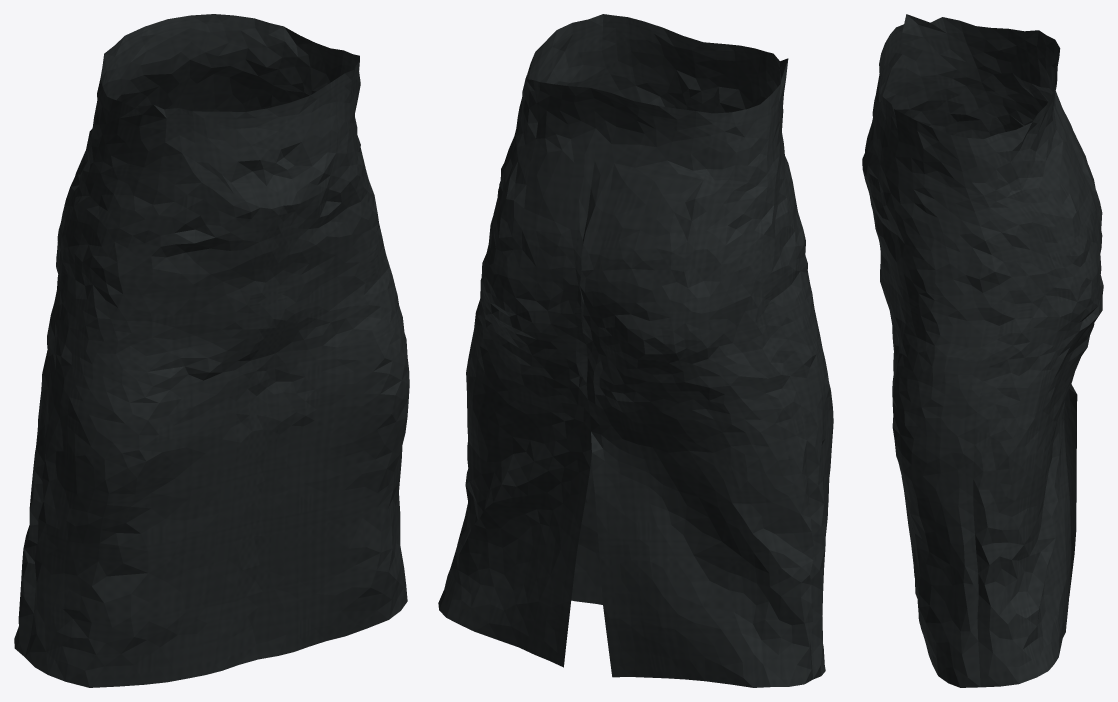
File: mhw_elvs_pencil_skirt.glb
3 views of the same model, side by side, from view 1: azimuth 30°, elevation 25°; view 2: azimuth 150°, elevation 25°; view 3: azimuth 270°, elevation 25° (orthographic). The views are drawn at different scales.
Visible parts, largest first — view 1: mhw_elvs_pencil_skirt; view 2: mhw_elvs_pencil_skirt; view 3: mhw_elvs_pencil_skirt.
Boxes of the visible parts, <box> form: mhw_elvs_pencil_skirt: <box>14,14,409,687</box>; mhw_elvs_pencil_skirt: <box>438,14,833,687</box>; mhw_elvs_pencil_skirt: <box>862,14,1103,687</box>.
Bounding box in the file's own units: 0.4636 × 0.7047 × 0.2806.
Materials: 1 (1 with a texture image).
